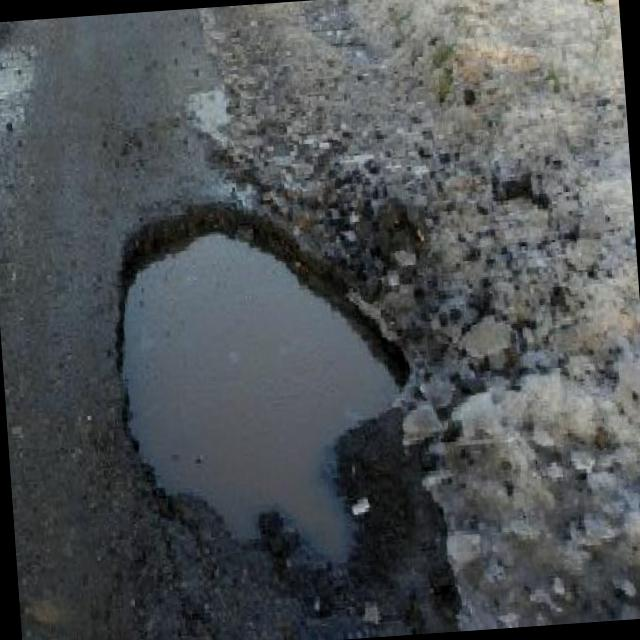Lubang: (115, 197, 408, 615)
